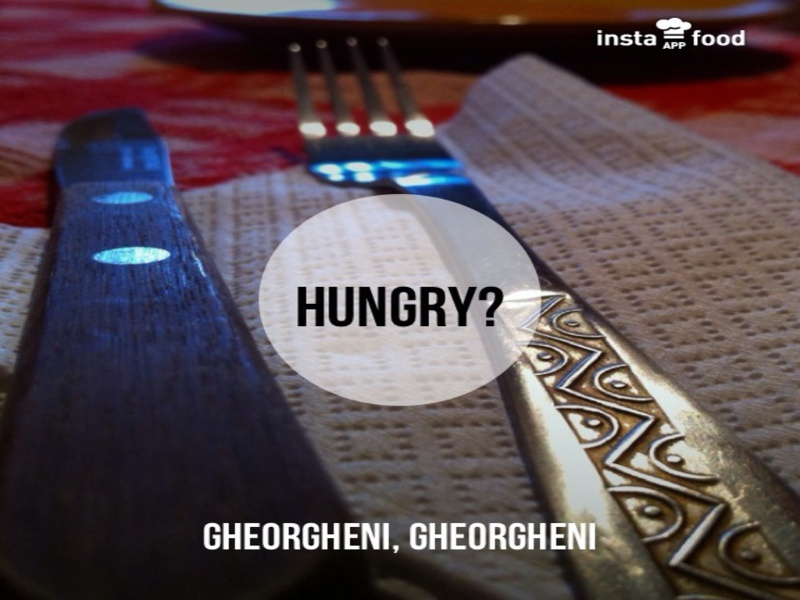knife: (5, 94, 369, 600)
